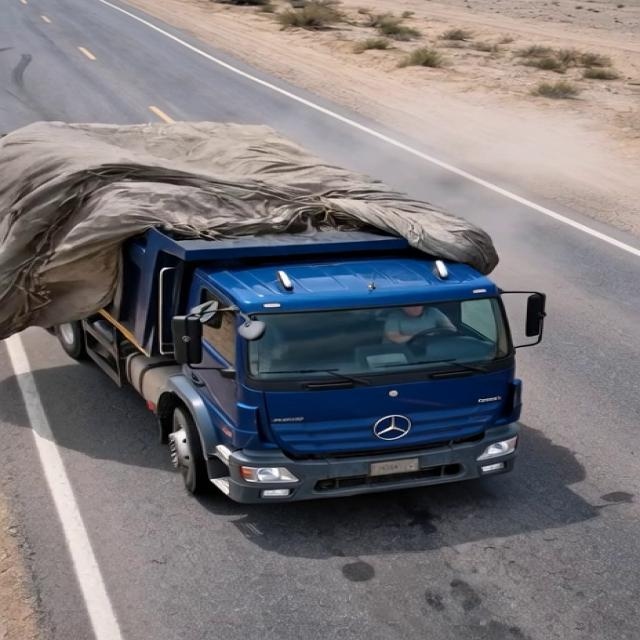Box: (25, 120, 507, 244)
Truck: (13, 90, 576, 510)
